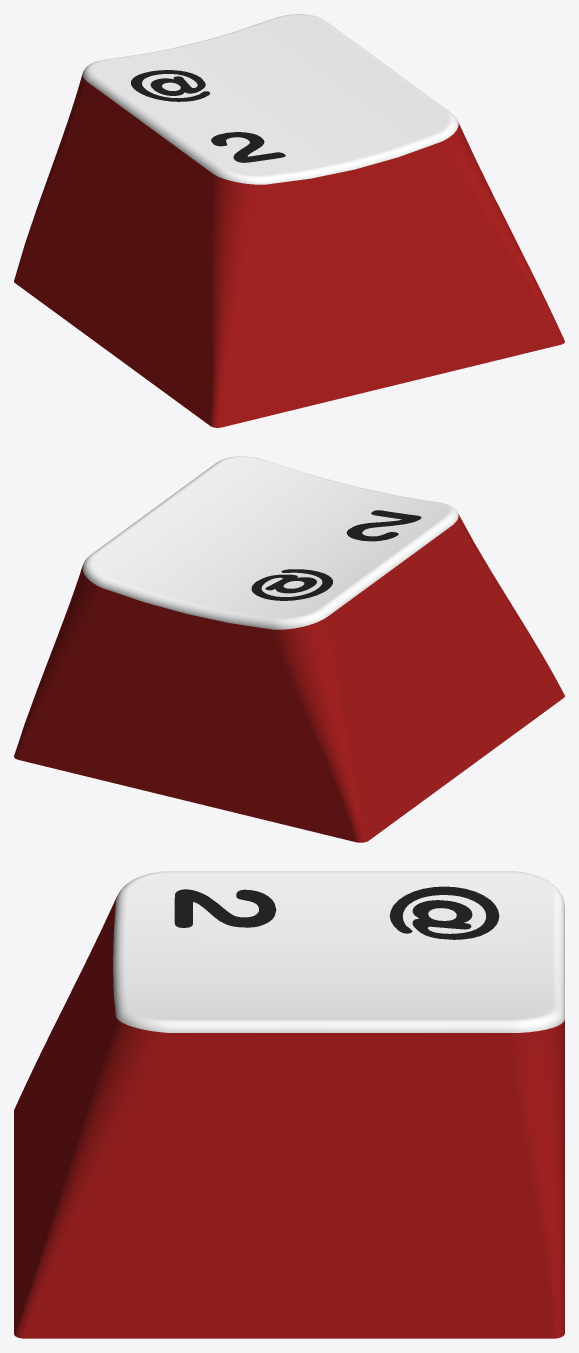
Rendered from 2 ANSI.fbx.
3 renders of one model, top to bottom at view 1: azimuth 30°, elevation 25°; view 2: azimuth 150°, elevation 25°; view 3: azimuth 270°, elevation 25°, orthographic. The views are drawn at different scales.
Parts seen in each view (by area): view 1: Body1; view 2: Body1; view 3: Body1.
Part boxes in pixels (box(x1,y1,x2,y2)): Body1: box(14, 14, 564, 427); Body1: box(14, 456, 564, 842); Body1: box(14, 871, 564, 1338).
Size of the model in its own units: 18 by 9.95 by 18.
